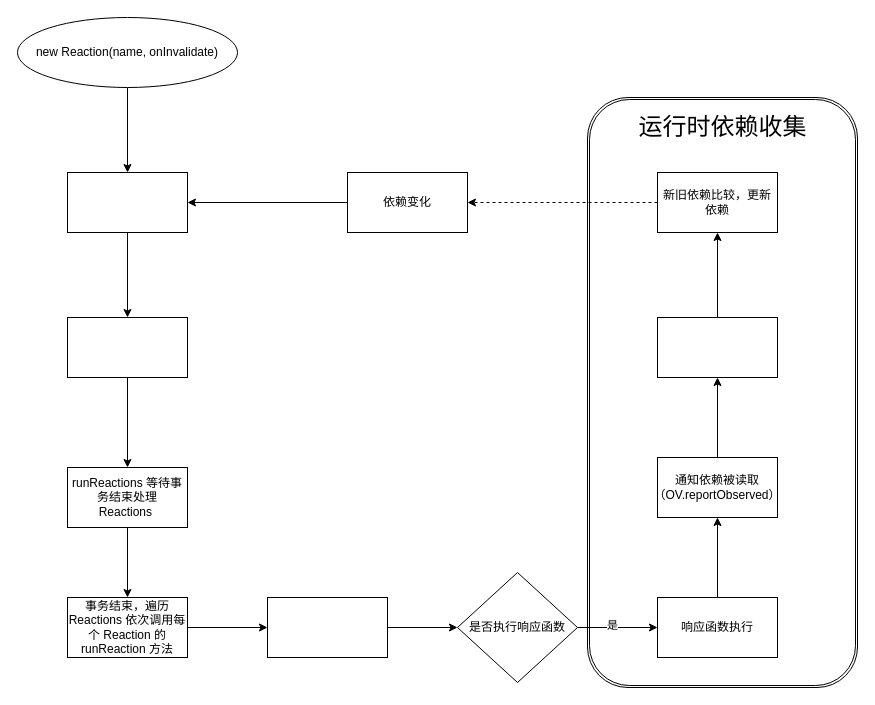
Image size: 875x705. Some labels were removed from this diagram. Each missing label, with the centre of its shape:
OV 收集进新依赖数组: (717,347)
调用构造时传入的 onInvalidate: (327,627)
首次执行或依赖过期: (127,202)
（schedule） 加入 pendingReactions 队列: (127,347)
